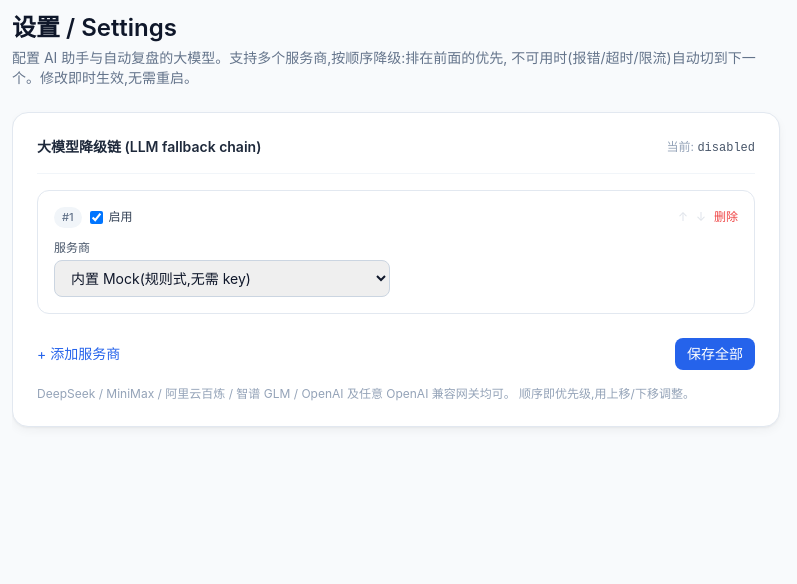
it: SettingsPage (multi-provider chain) › adds a provider row
Expected: the text "#1" is shown, [54,207,82,228]
What coordinates should you click on to do the following:
click the button "+ 添加服务商"
I would click on:
 (79, 354)
Its box is [37,344,120,364].
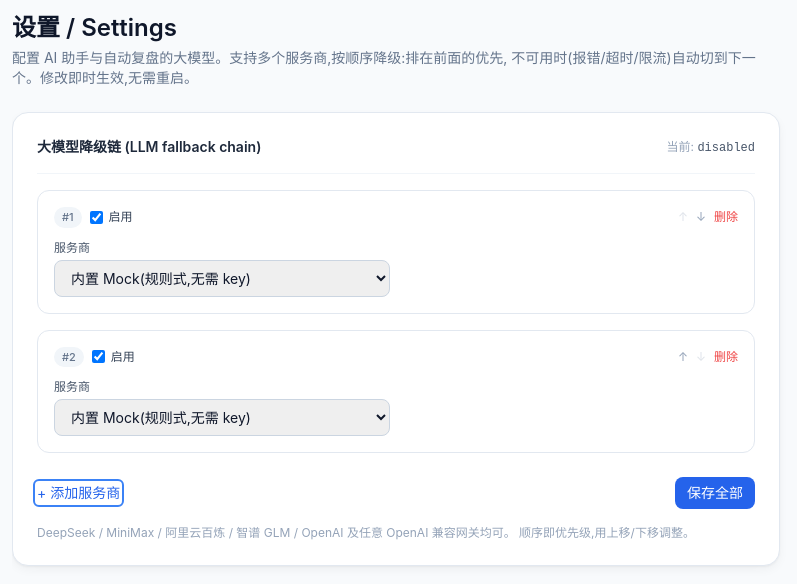
Expected: the text "#2" is shown, [54,346,84,367]
